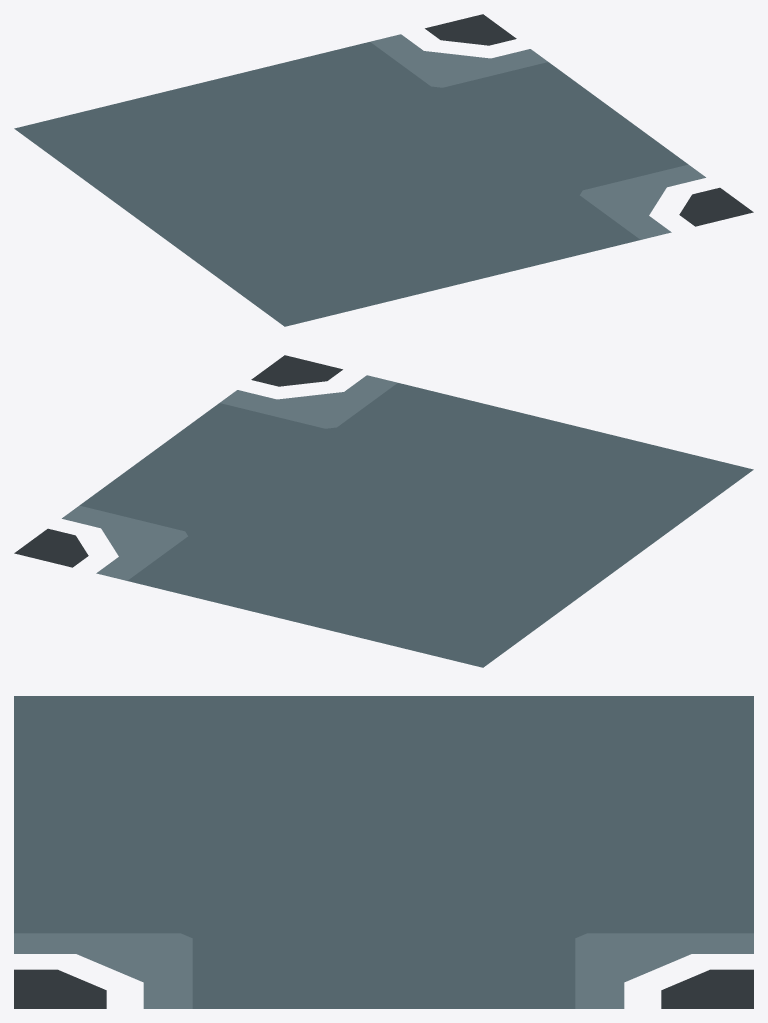
File: Ceiling_type_C_003.glb
3 renders of one model, top to bottom at view 1: azimuth 30°, elevation 25°; view 2: azimuth 150°, elevation 25°; view 3: azimuth 270°, elevation 25°, orthographic. The views are drawn at different scales.
Parts seen in each view (by area): view 1: Ceiling_type_C_003; view 2: Ceiling_type_C_003; view 3: Ceiling_type_C_003.
Boxes of the visible parts, x1=… form: Ceiling_type_C_003: x1=14, y1=14, x2=753, y2=326; Ceiling_type_C_003: x1=14, y1=355, x2=753, y2=667; Ceiling_type_C_003: x1=14, y1=696, x2=753, y2=1008.
Size of the model in its own units: 4 by 0.0455 by 4.
2 materials, 2 textured.
